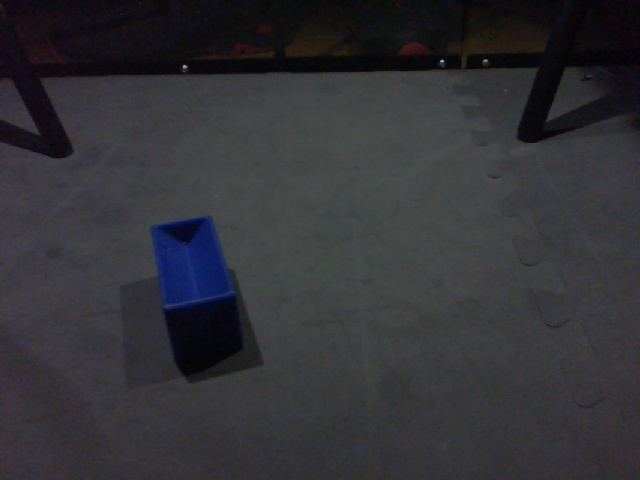BlueSample: (146, 216, 249, 369)
